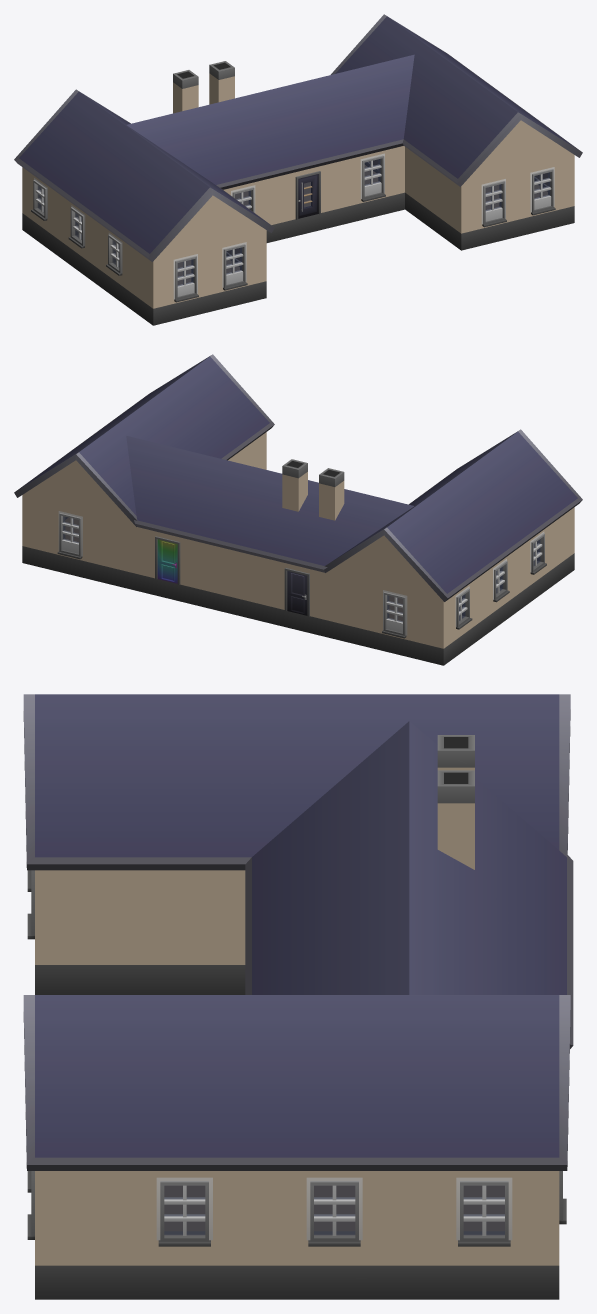
The model's file is rumah_warga1.glb.
3 views of the same model, one above another, from view 1: azimuth 30°, elevation 25°; view 2: azimuth 150°, elevation 25°; view 3: azimuth 270°, elevation 25° (orthographic). The views are drawn at different scales.
Parts seen in each view (by area): view 1: Object_2, Object_3; view 2: Object_2, Object_3; view 3: Object_2, Object_3.
Part boxes in pixels (x1,y1,x2,y2): Object_2: [14, 14, 582, 325]; Object_3: [38, 159, 549, 286]; Object_2: [14, 354, 582, 665]; Object_3: [63, 516, 540, 622]; Object_2: [23, 694, 573, 1299]; Object_3: [164, 1185, 504, 1234].
Size of the model in its own units: 26.76 by 8.25 by 14.69.
2 materials, 1 textured.
